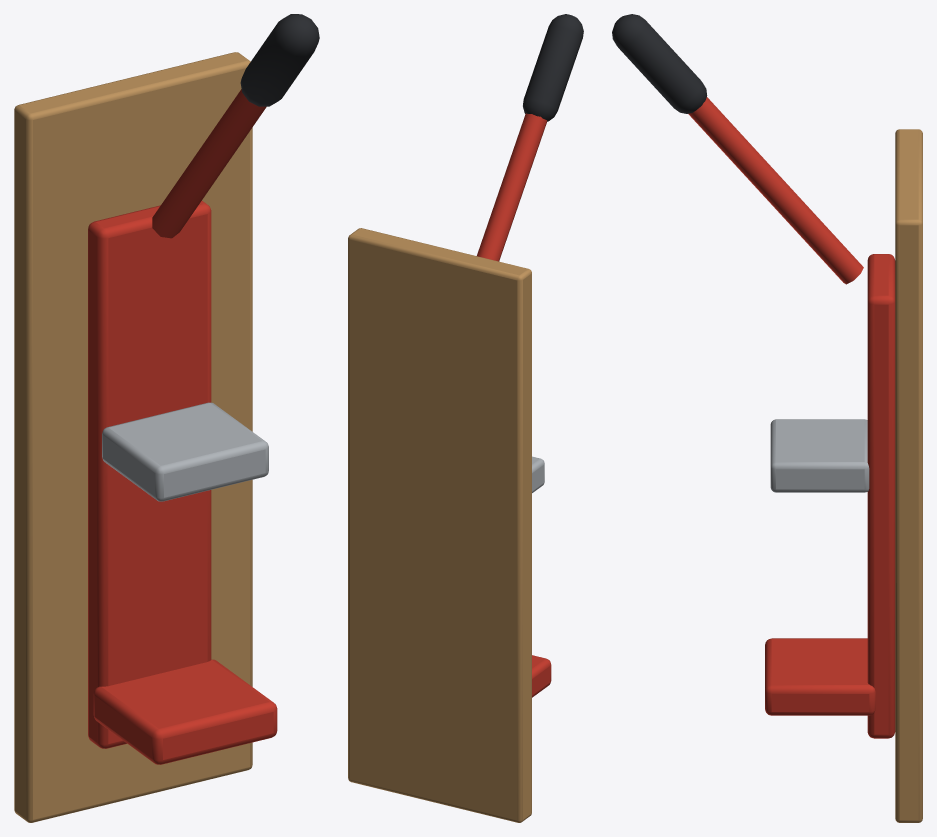
File: can_crusher.fbx
3 renders of one model, left to right at view 1: azimuth 30°, elevation 25°; view 2: azimuth 150°, elevation 25°; view 3: azimuth 270°, elevation 25°, orthographic. The views are drawn at different scales.
Visible parts, largest first — view 1: can_crusher; view 2: can_crusher; view 3: can_crusher.
Part boxes in pixels (bbox=[...]): can_crusher: bbox=[14, 14, 319, 822]; can_crusher: bbox=[348, 14, 583, 822]; can_crusher: bbox=[612, 14, 922, 822].
Bounding box in the file's own units: 0.2 × 0.7579 × 0.2804.
